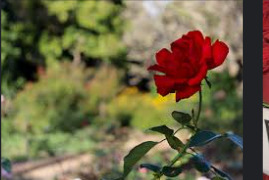RedRose: (141, 26, 230, 100)
